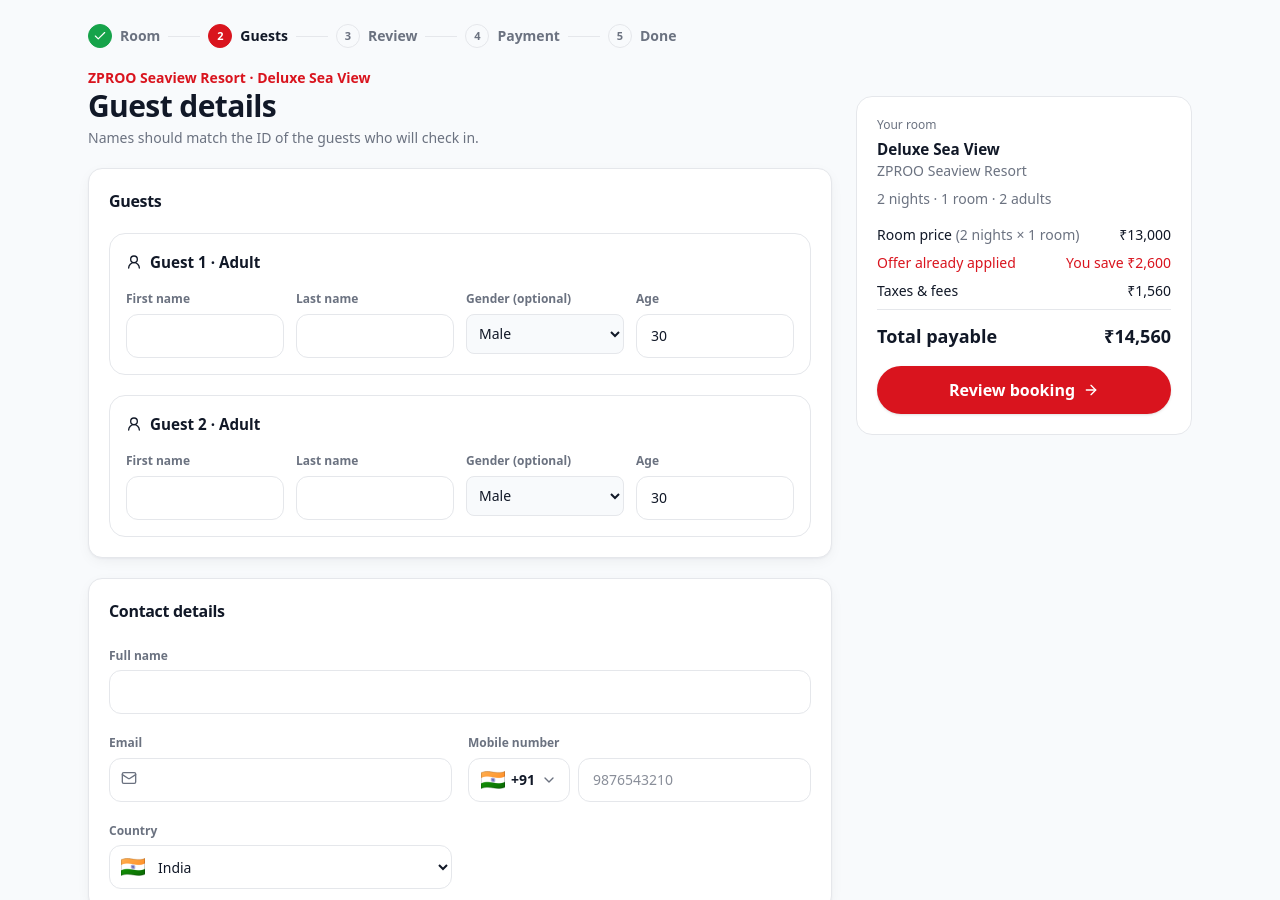
Scenario: guest details › switches the mobile prefix and rules with the country flag picker
Click the button named "country code": (519, 780) [468,758,570,802]
(page scrolled)
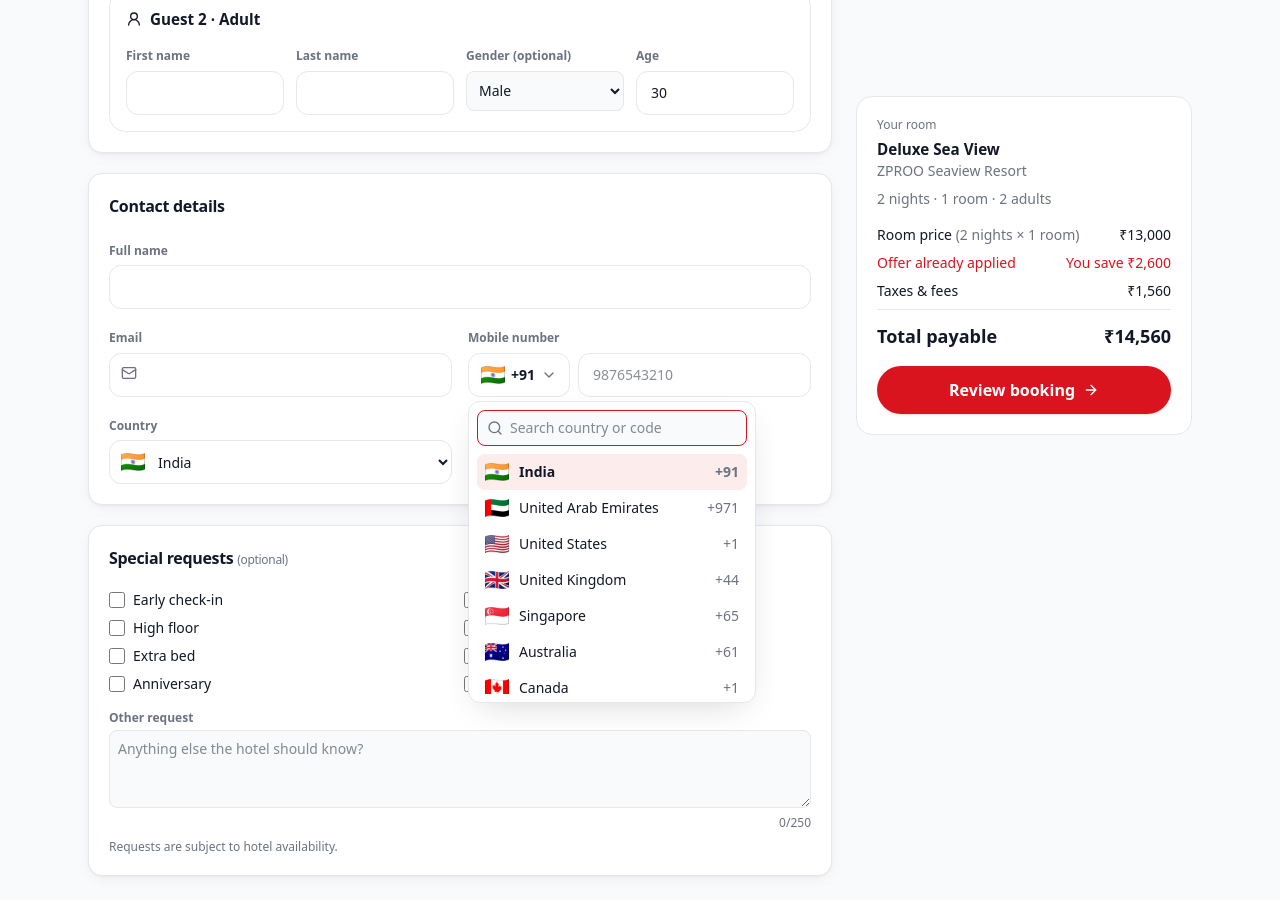
Click the button "United Arab Emirates +971": (612, 508) [477,490,747,526]
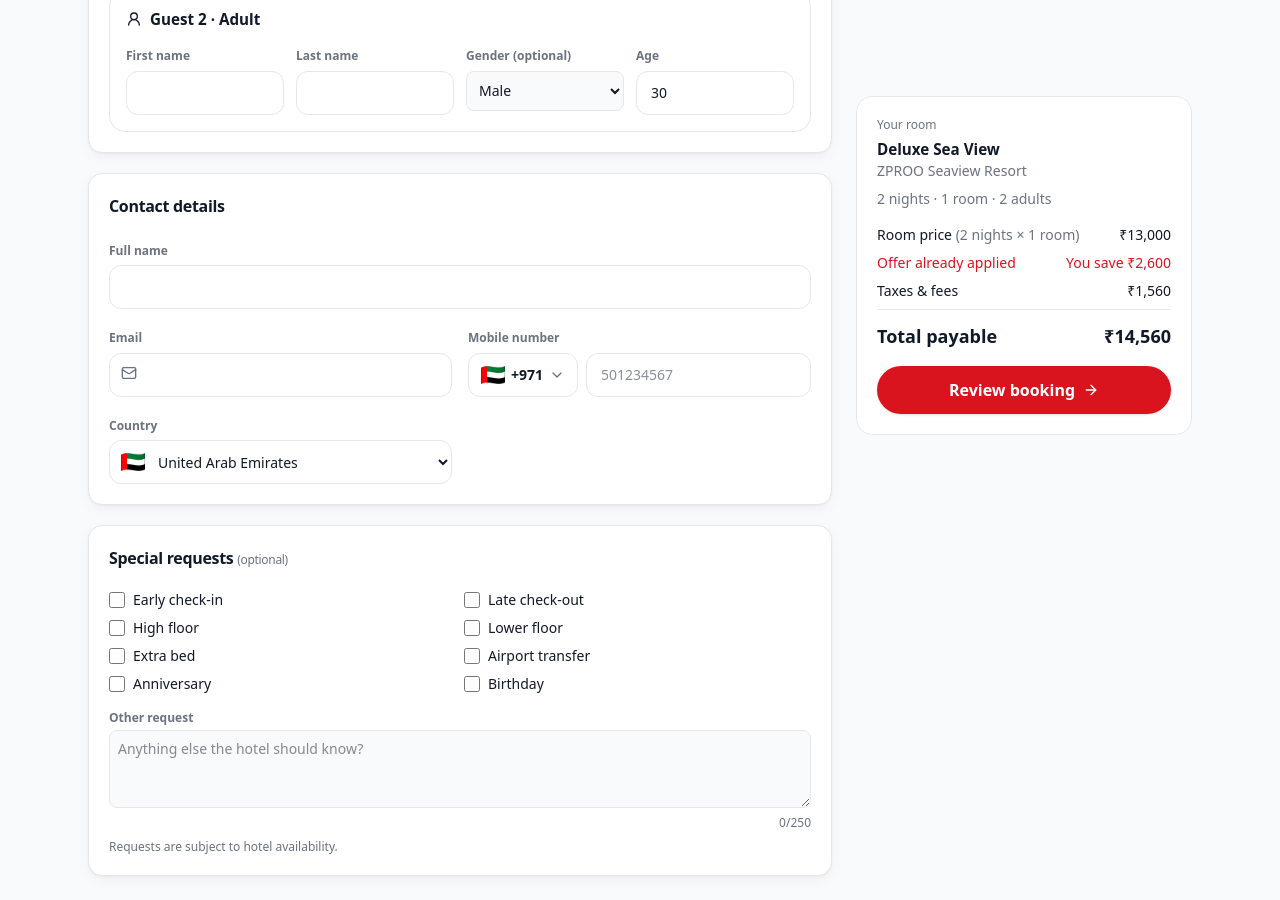
expect the button named "country code, united arab emirates +971" is shown: met, box [468,353,578,397]
In the field labelled "Mobile number": (698, 375) [586,353,811,397], type "501234567890"
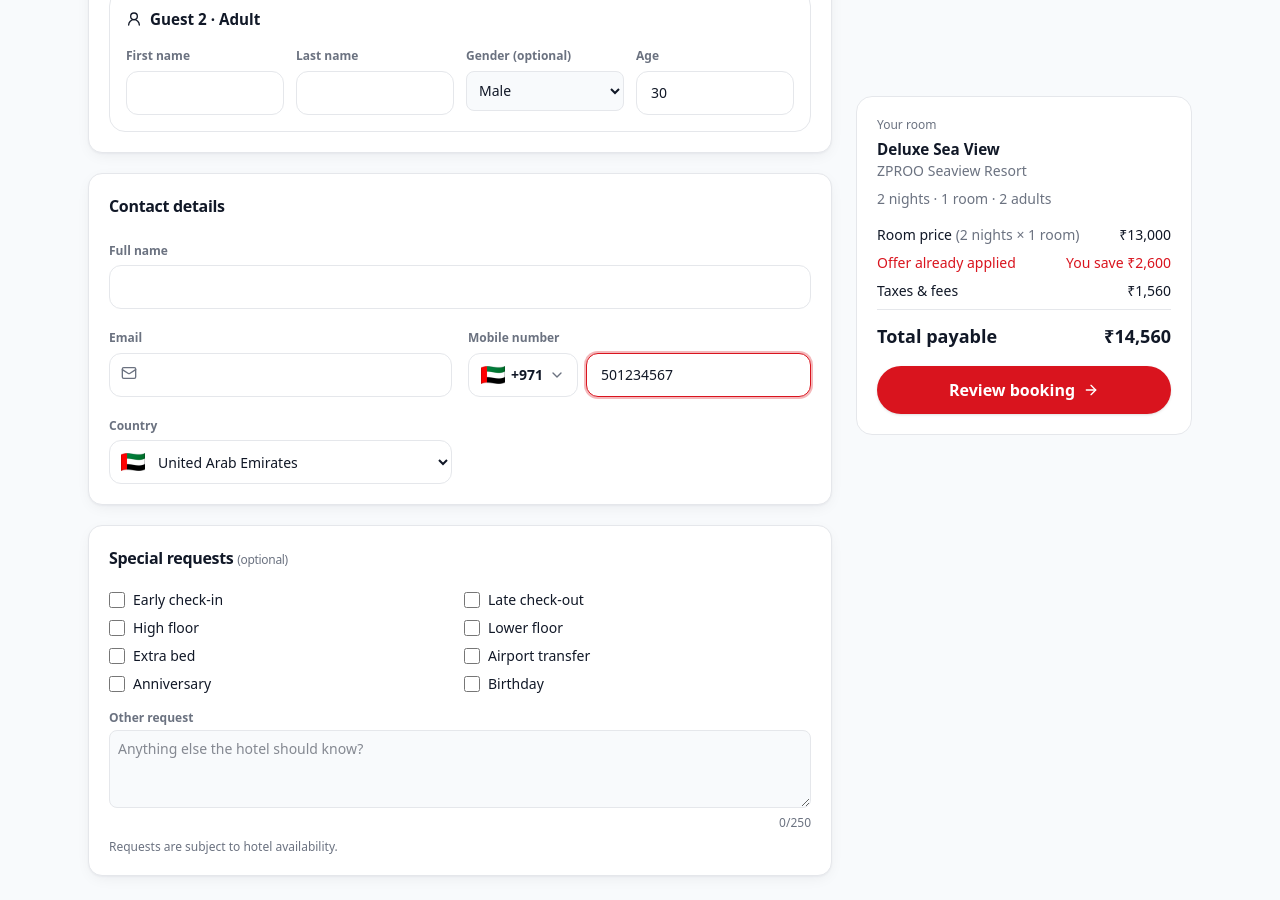
expect the dropdown labelled "Country" shows "United Arab Emirates": met, box [109,440,452,484]
expect the field labelled "Mobile number" holds "501234567": met, box [586,353,811,397]
